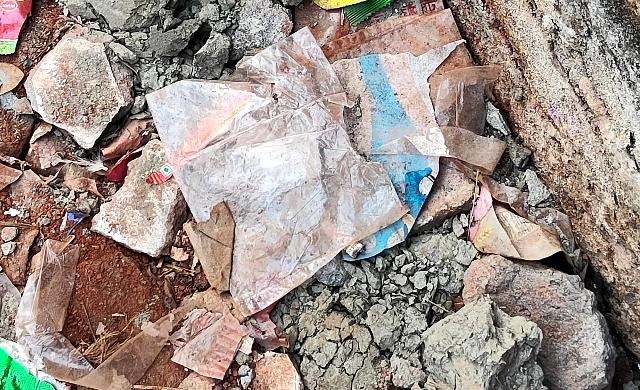polythene: (115, 11, 415, 321)
